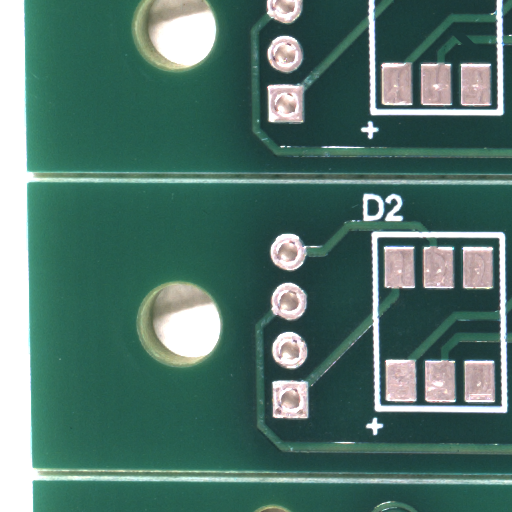Open_circuit: (463, 39, 483, 51)
